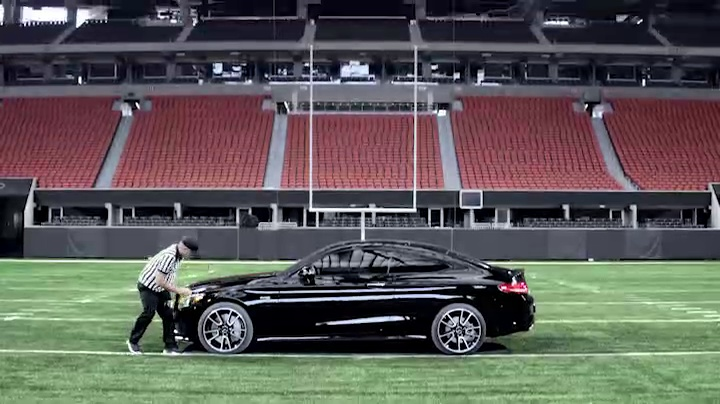amg: (174, 243, 537, 341)
